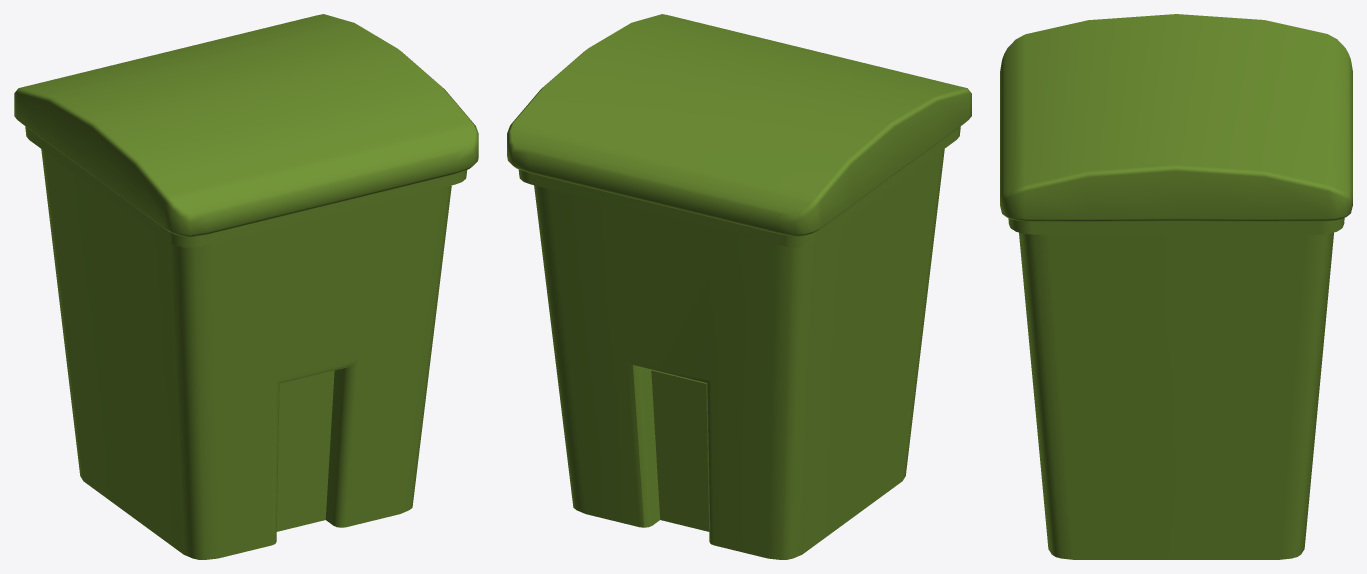
Rendered from SM_Trash_Bin_03.fbx.
3 views of the same model, side by side, from view 1: azimuth 30°, elevation 25°; view 2: azimuth 150°, elevation 25°; view 3: azimuth 270°, elevation 25° (orthographic). The views are drawn at different scales.
Parts seen in each view (by area): view 1: SM_Trash_Bin__03, SM_Trash_Bin_Top.002; view 2: SM_Trash_Bin__03, SM_Trash_Bin_Top.002; view 3: SM_Trash_Bin__03, SM_Trash_Bin_Top.002.
Boxes of the visible parts, x1,y1,x2,y2 form: SM_Trash_Bin__03: (25, 126, 467, 559); SM_Trash_Bin_Top.002: (14, 14, 478, 237); SM_Trash_Bin__03: (518, 126, 960, 559); SM_Trash_Bin_Top.002: (507, 14, 971, 236); SM_Trash_Bin__03: (1008, 218, 1344, 559); SM_Trash_Bin_Top.002: (1000, 14, 1352, 221).
Bounding box in the file's own units: 213 × 265 × 205.
